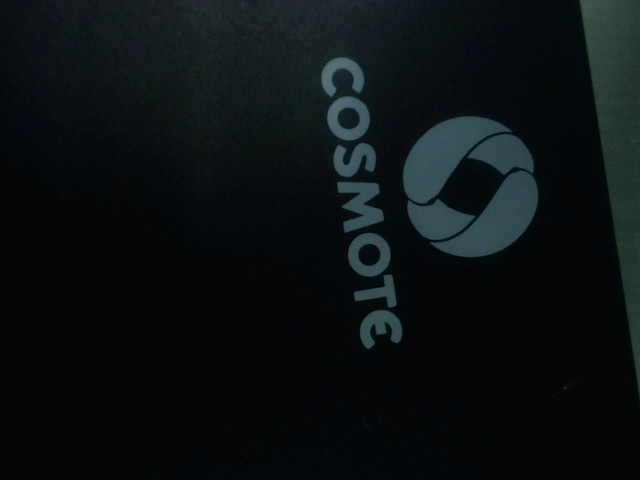AU_COSMOTE: (276, 42, 543, 350)
